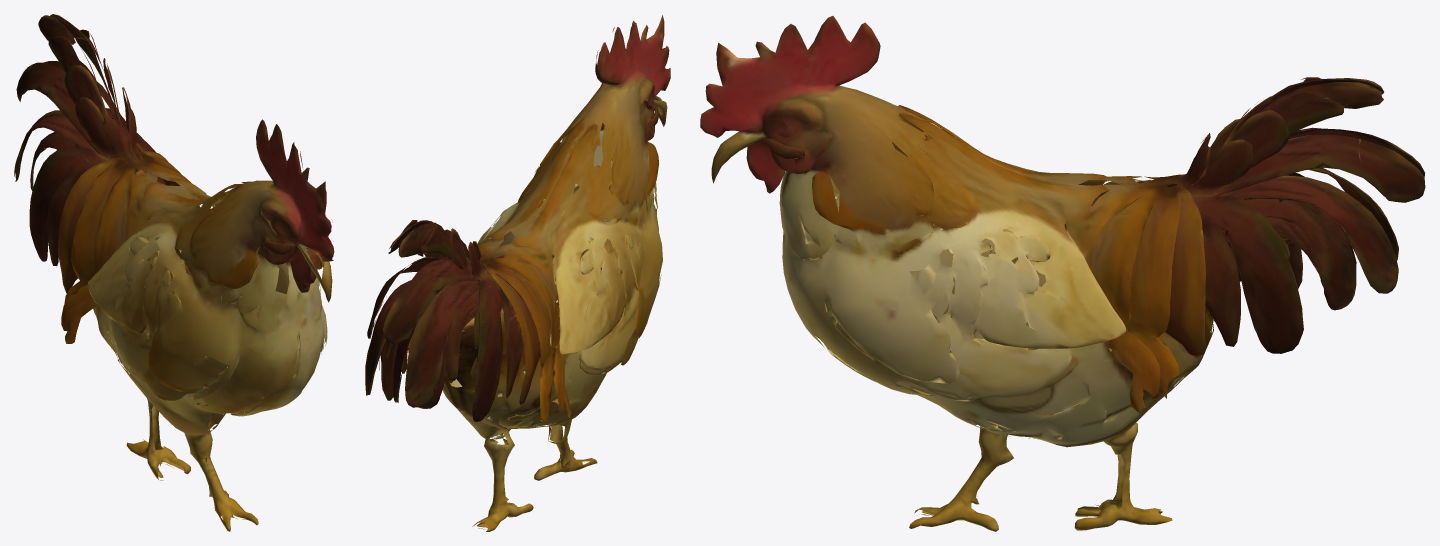
The model's file is critter_chicken.glb.
3 views of the same model, side by side, from view 1: azimuth 30°, elevation 25°; view 2: azimuth 150°, elevation 25°; view 3: azimuth 270°, elevation 25° (orthographic). The views are drawn at different scales.
Visible parts, largest first — view 1: world; view 2: world; view 3: world.
Part boxes in pixels (box(x1,y1,x2,y2)): world: box(14, 14, 334, 531); world: box(365, 15, 670, 531); world: box(700, 16, 1425, 531).
Size of the model in its own units: 0.3072 by 0.7718 by 0.998.
Materials: 1 (1 with a texture image).
